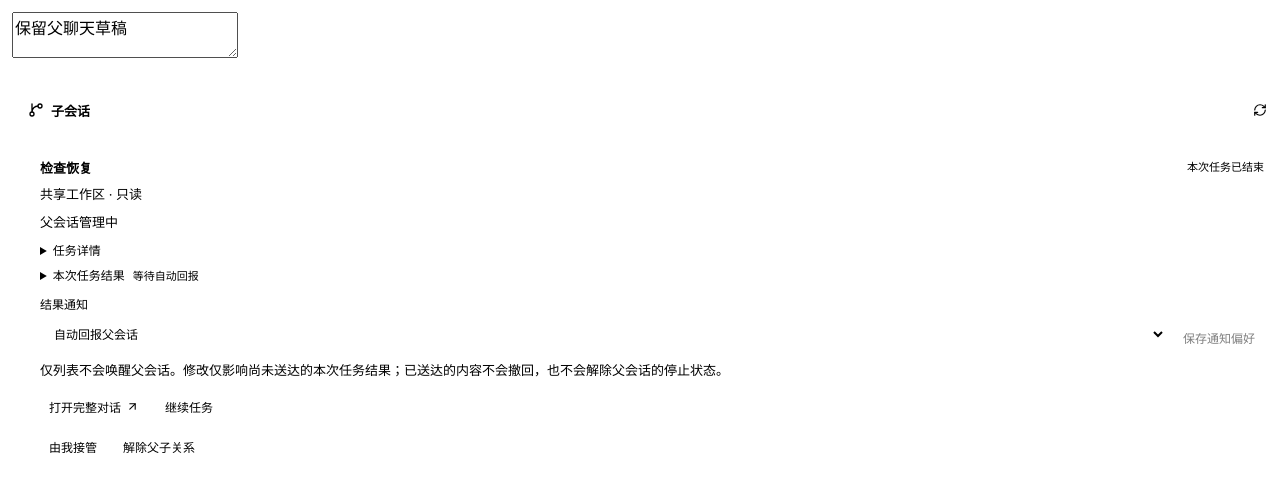
Test case: updates only the assignment subscription with its expected revision, preserving drafts
This screenshot has width=1283, height=497.
Select "仅保留在任务列表" in the dropdown labelled "结果通知" at x=603, y=334, box x1=40 y1=317 x2=1166 y2=352
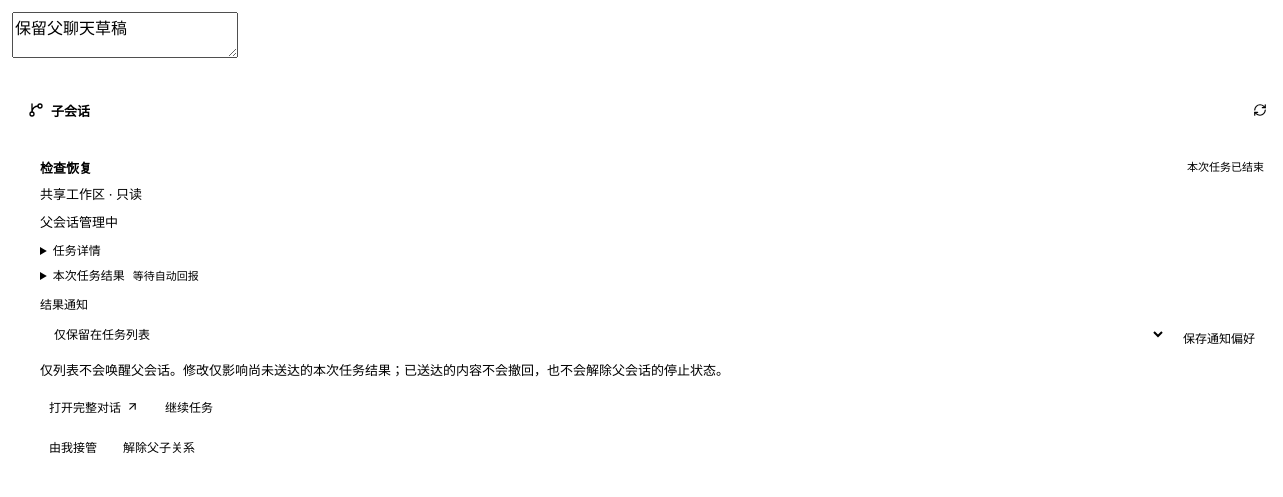
Click the button "保存通知偏好".
click(1219, 338)  # box x1=1174 y1=324 x2=1264 y2=352
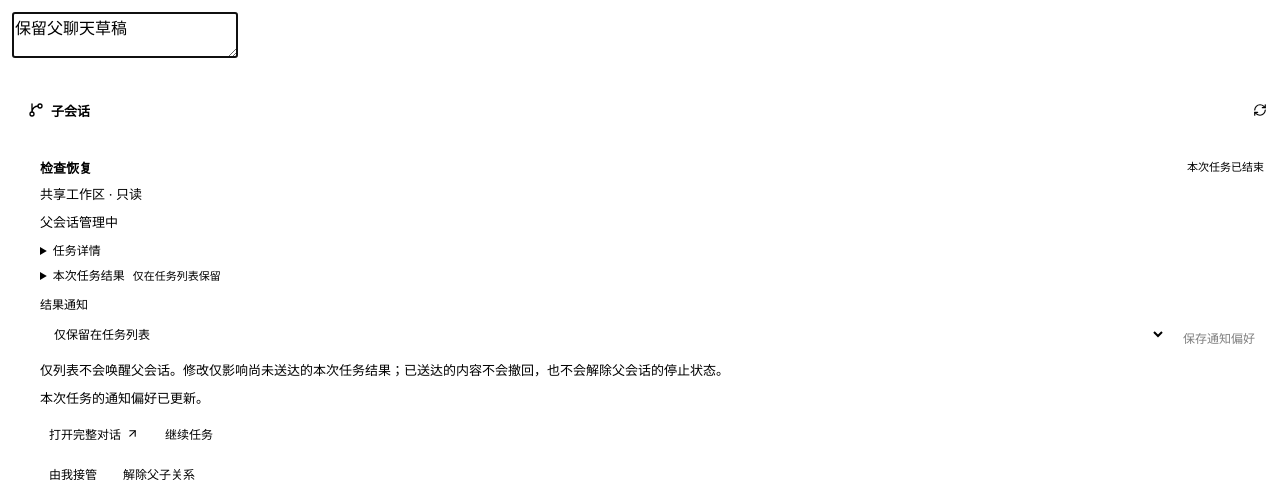
Now the text "本次任务的通知偏好已更新。" is shown, box x1=40 y1=390 x2=209 y2=406
Now the text "仅在任务列表保留" is shown, box x1=133 y1=269 x2=221 y2=283
